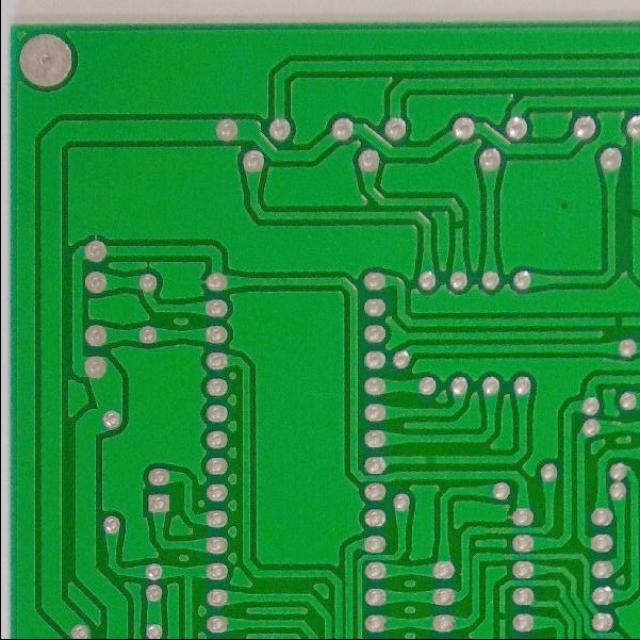Open_Circuit: (620, 198, 639, 229), (606, 310, 630, 333), (449, 213, 468, 235), (493, 604, 512, 626)
